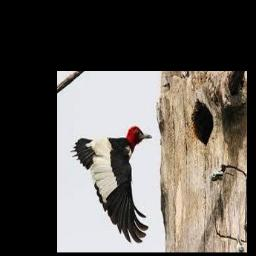Woodpecker: (70, 126, 151, 243)
